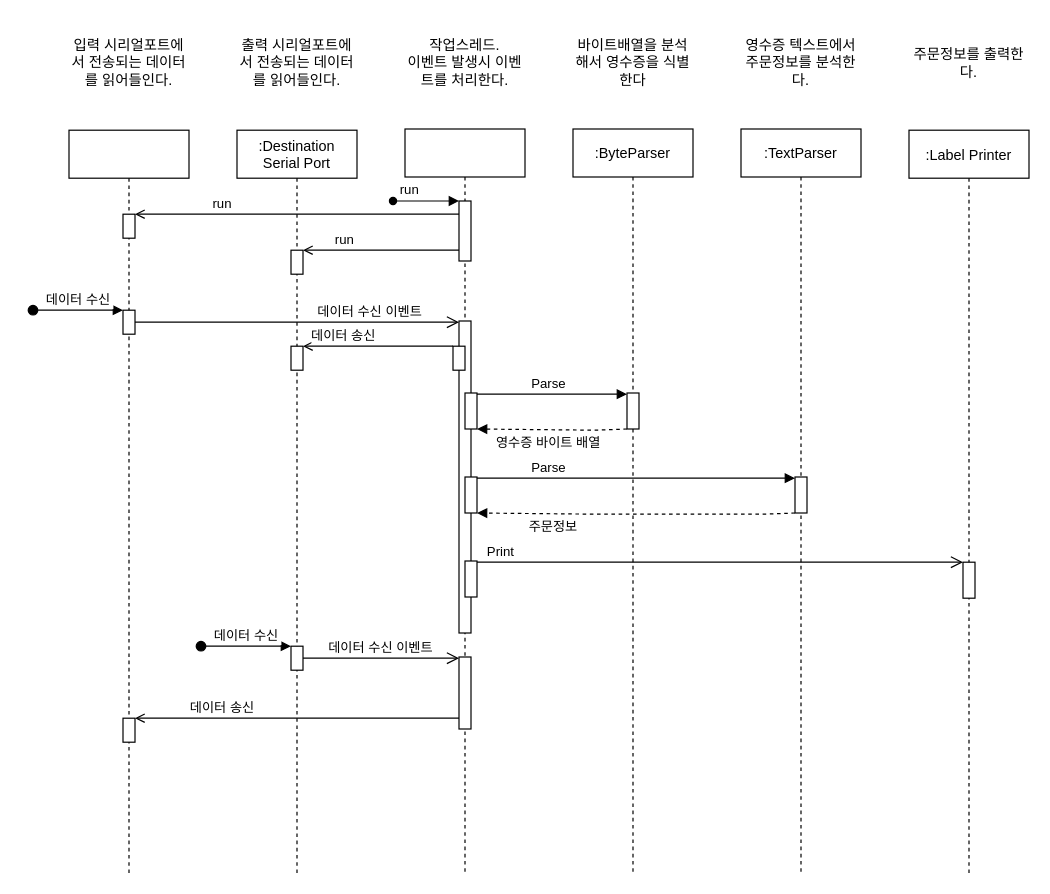
This 1050x894 diagram has some shape labels left out. Each missing label, with the box of its shape:
:Source Serial Port: (68, 129, 189, 873)
:Worker: (404, 128, 525, 873)
